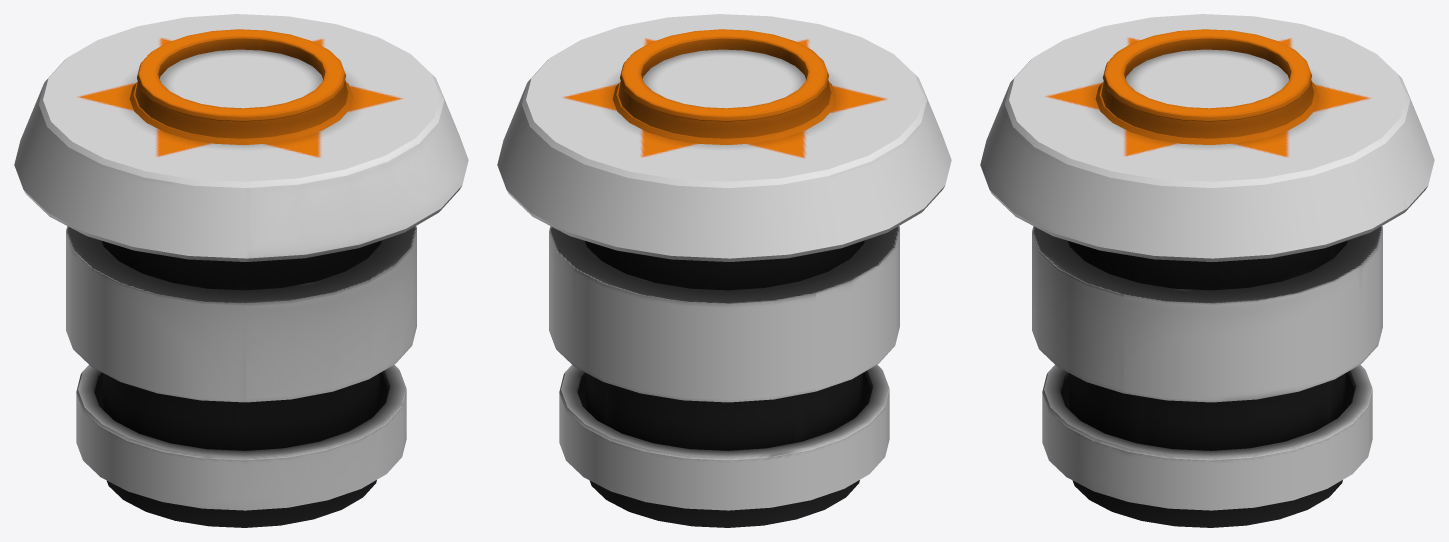
File: bumper_small.fbx
The picture shows the model from 3 angles, left to right: view 1: azimuth 30°, elevation 25°; view 2: azimuth 150°, elevation 25°; view 3: azimuth 270°, elevation 25°; orthographic projection.
Visible parts, largest first — view 1: bumper_small; view 2: bumper_small; view 3: bumper_small.
Boxes of the visible parts, <box> form: bumper_small: <box>14,14,468,527</box>; bumper_small: <box>497,14,951,527</box>; bumper_small: <box>980,14,1434,527</box>.
Size of the model in its own units: 206 by 199 by 206.
Materials: 1 (1 with a texture image).
